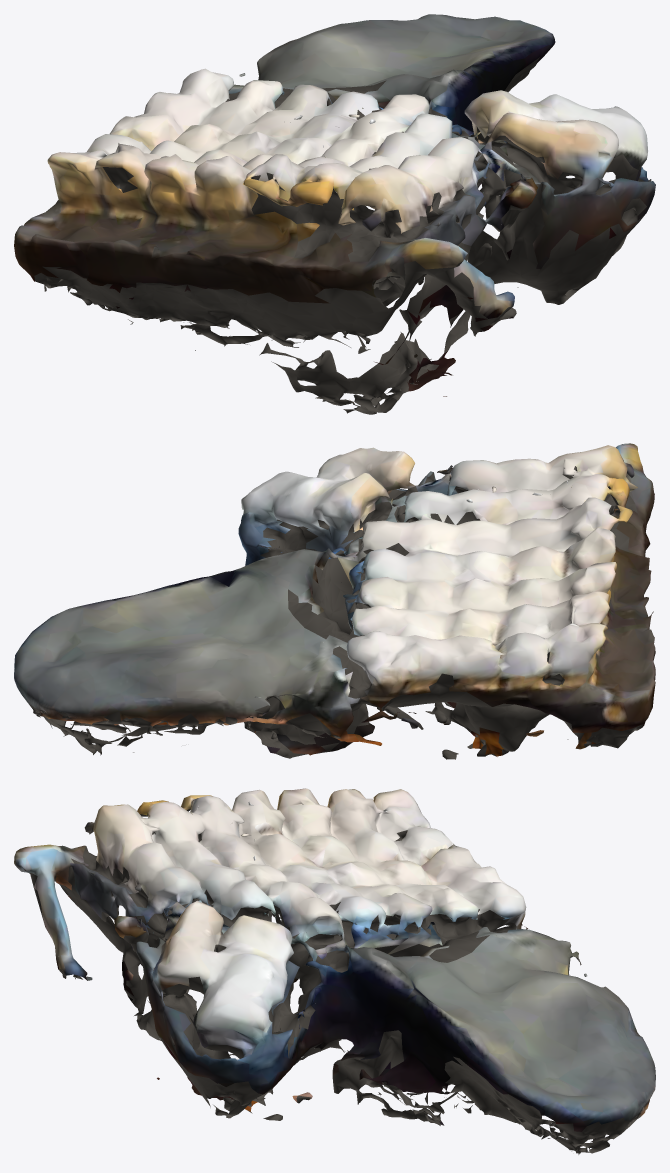
The model's file is right-moonlander.glb.
3 renders of one model, top to bottom at view 1: azimuth 30°, elevation 25°; view 2: azimuth 150°, elevation 25°; view 3: azimuth 270°, elevation 25°, orthographic. The views are drawn at different scales.
Parts seen in each view (by area): view 1: mesh_lowpoly; view 2: mesh_lowpoly; view 3: mesh_lowpoly.
Boxes of the visible parts, bbox=[...] form: mesh_lowpoly: bbox=[14, 14, 655, 414]; mesh_lowpoly: bbox=[14, 443, 655, 759]; mesh_lowpoly: bbox=[14, 788, 655, 1154].
Size of the model in its own units: 1.8 by 0.8743 by 1.82.
2 materials, 2 textured.
